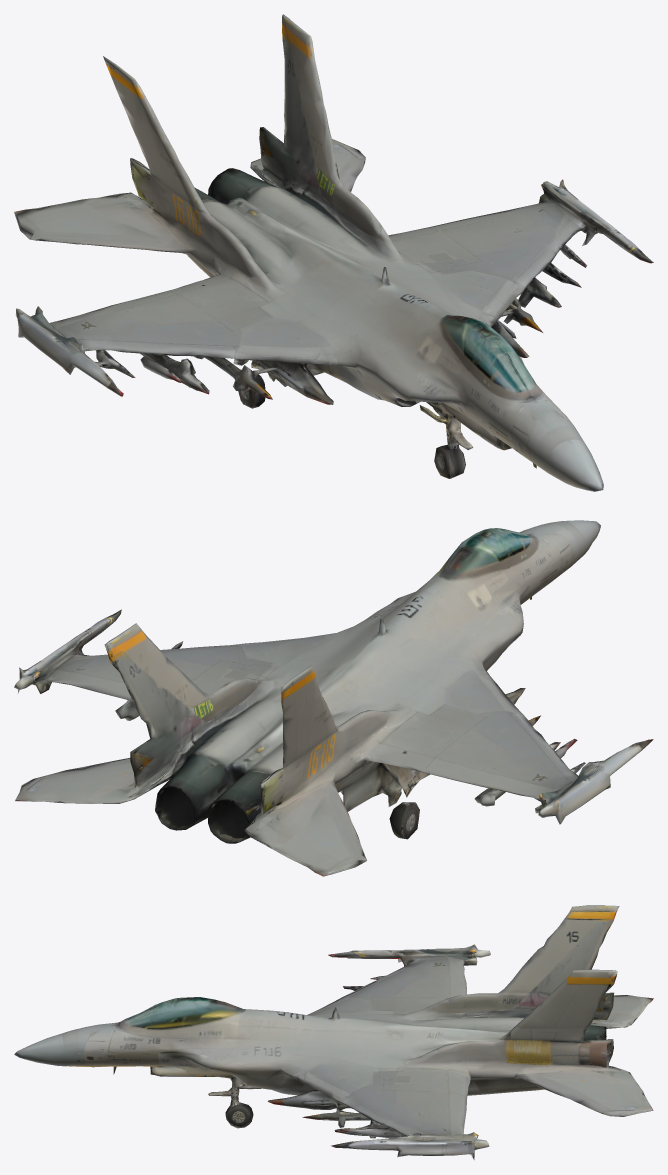
Rendered from a_f_16_airplane_0702145020_texture.glb.
3 views of the same model, one above another, from view 1: azimuth 30°, elevation 25°; view 2: azimuth 150°, elevation 25°; view 3: azimuth 270°, elevation 25° (orthographic). The views are drawn at different scales.
Size of the model in its own units: 1.46 by 0.6508 by 2.
Materials: 1 (1 with a texture image).
